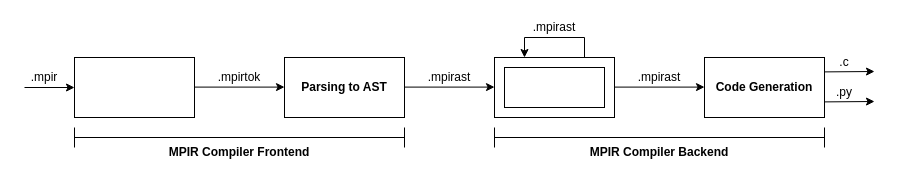
This 900x184 diagram has some shape labels left out. The box of each missing label's shape, as (x1, y1, x2, y2) in pixels:
Analyser(s) & Optimizers: (504, 66, 604, 108)
Tokenisation: (74, 56, 194, 118)
